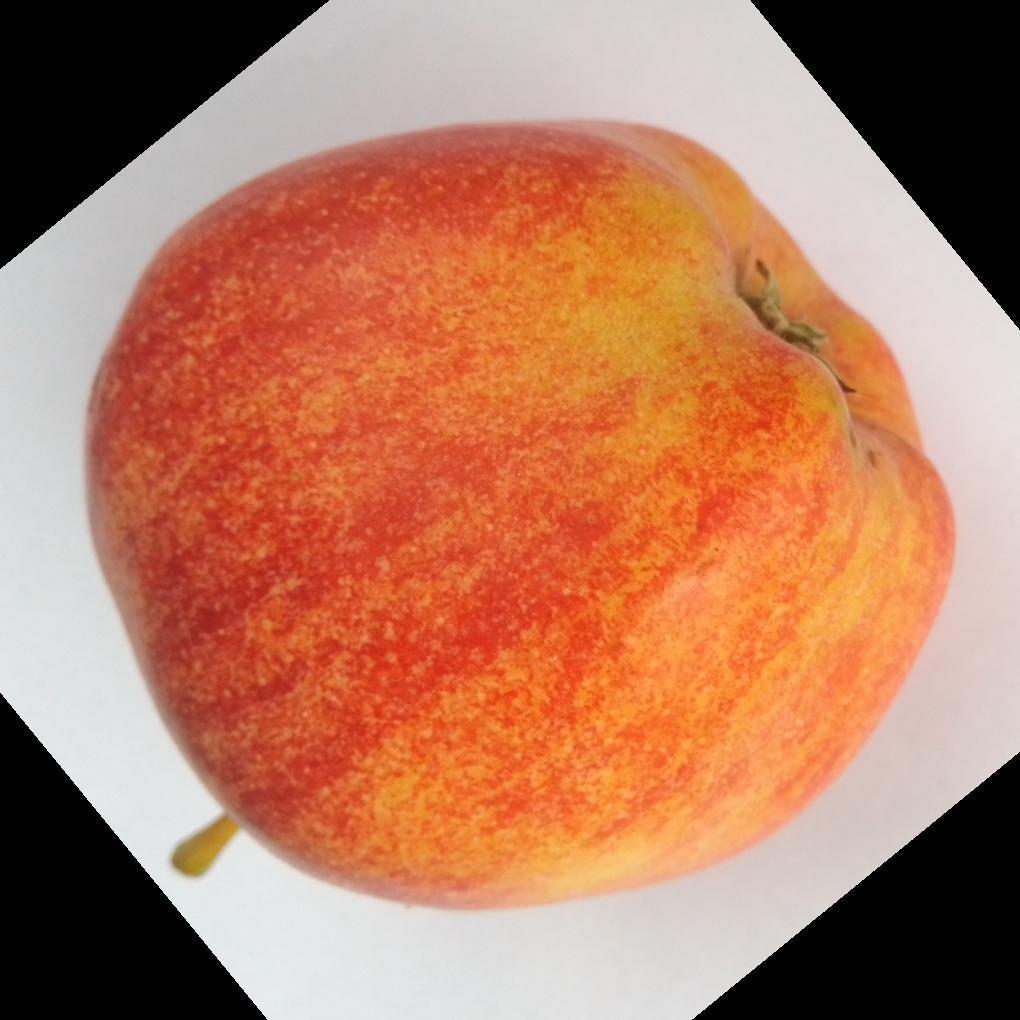FreshGuava: (82, 121, 957, 917)
